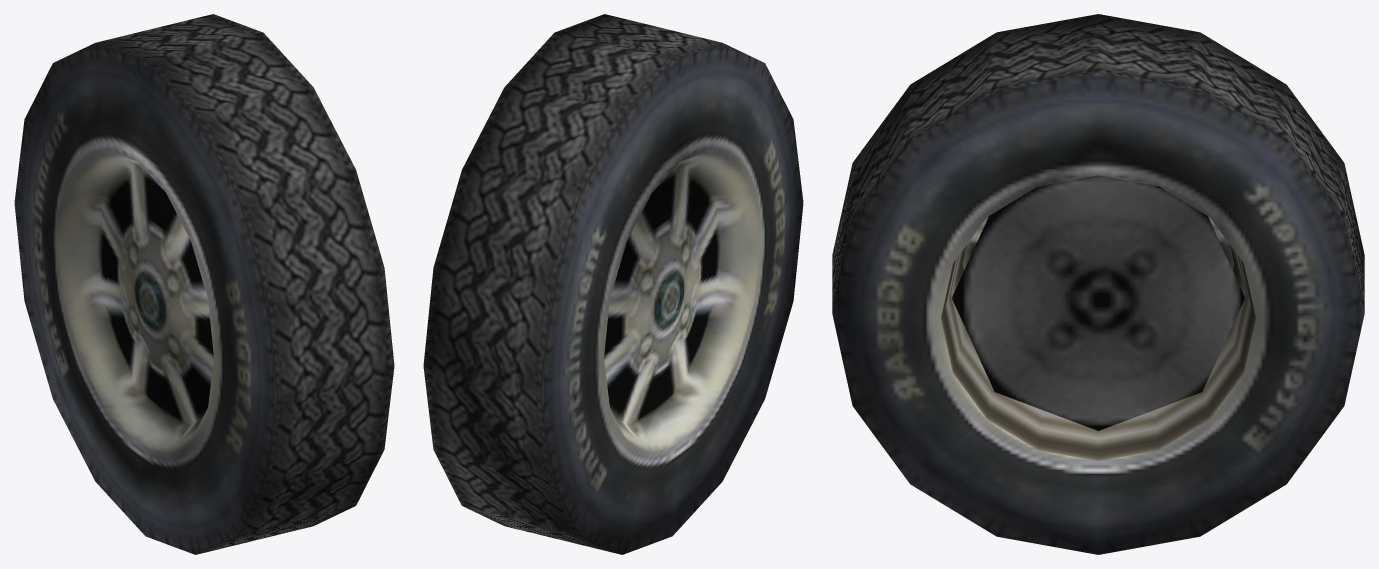
File: wheel_rear_left.glb
3 renders of one model, left to right at view 1: azimuth 30°, elevation 25°; view 2: azimuth 150°, elevation 25°; view 3: azimuth 270°, elevation 25°, orthographic.
Visible parts, largest first — view 1: tire_rl; view 2: tire_rl; view 3: tire_rl.
Boxes of the visible parts, x1,y1,x2,y2 form: tire_rl: [14, 14, 394, 554]; tire_rl: [423, 14, 803, 554]; tire_rl: [832, 14, 1364, 554].
Bounding box in the file's own units: 0.15 × 0.5 × 0.5.
Materials: 2 (2 with a texture image).
